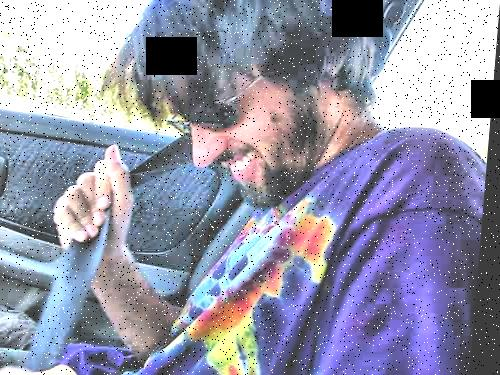seatbelt: (32, 127, 217, 327)
